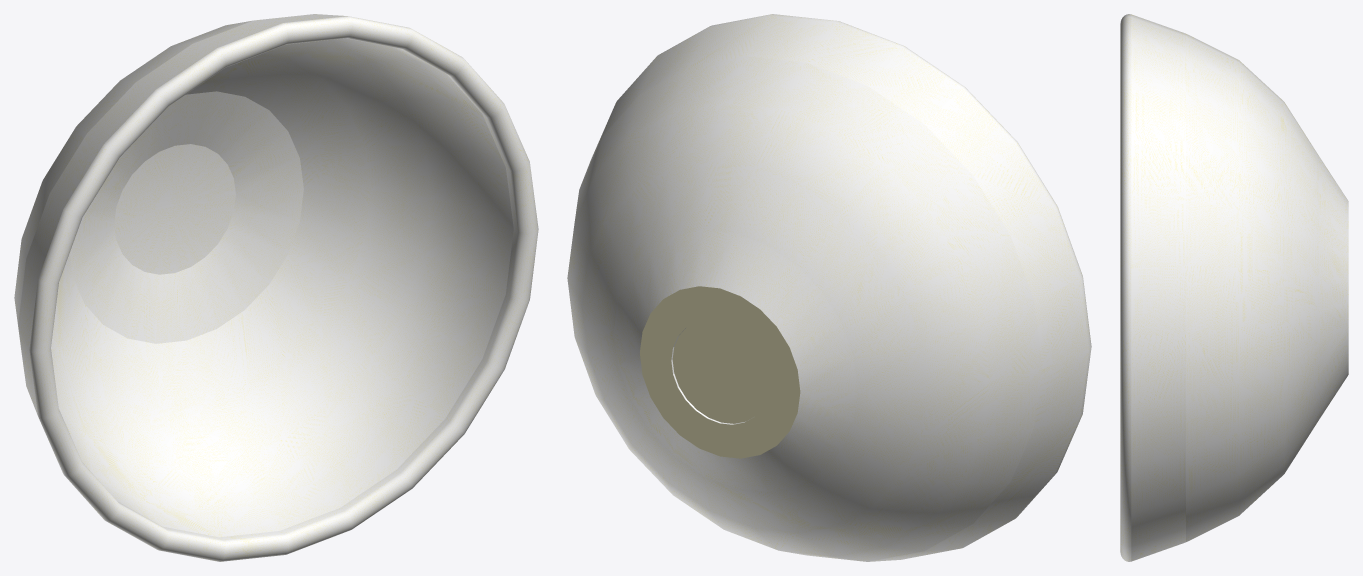
File: bowl.dae
3 renders of one model, left to right at view 1: azimuth 30°, elevation 25°; view 2: azimuth 150°, elevation 25°; view 3: azimuth 270°, elevation 25°, orthographic. The views are drawn at different scales.
Parts seen in each view (by area): view 1: Component_1; view 2: Component_1 (×2); view 3: Component_1.
Boxes of the visible parts, bbox=[...] form: Component_1: bbox=[14, 14, 538, 561]; Component_1 (×2): bbox=[567, 14, 1091, 561]; Component_1: bbox=[1120, 14, 1348, 561].
Bounding box in the file's own units: 8.19 × 3.4 × 8.19.
